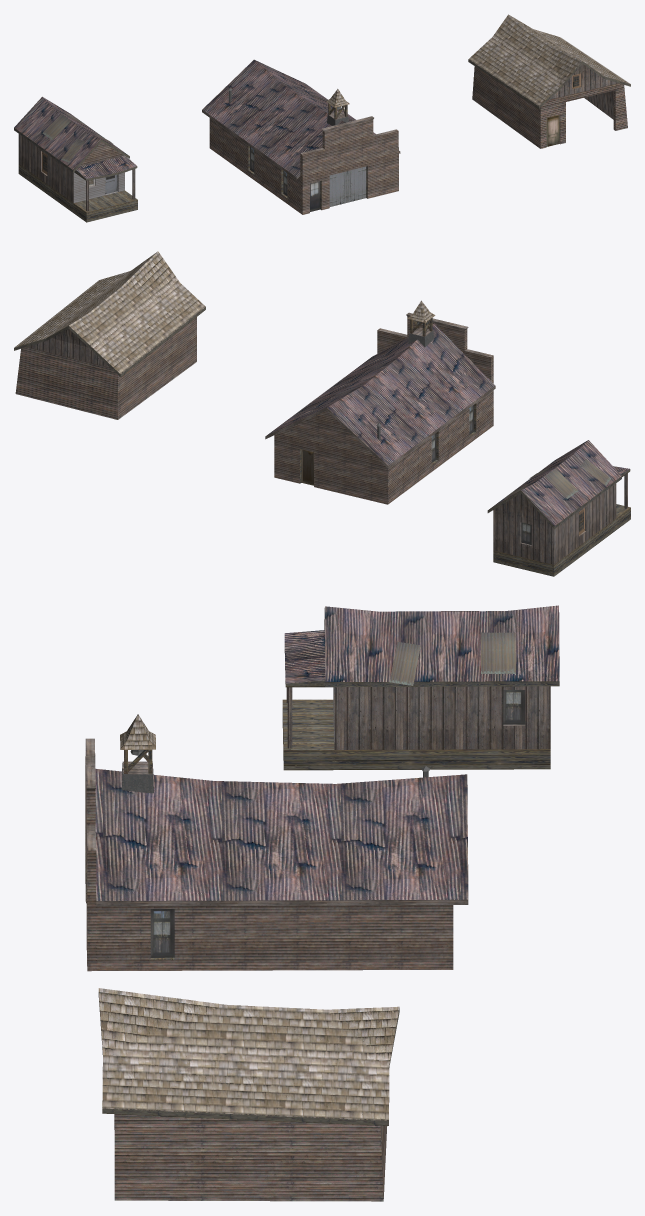
Rendered from des_westrn7_01.obj.
3 views of the same model, one above another, from view 1: azimuth 30°, elevation 25°; view 2: azimuth 150°, elevation 25°; view 3: azimuth 270°, elevation 25° (orthographic). The views are drawn at different scales.
Visible parts, largest first — view 1: des_westrn7_01; view 2: des_westrn7_01; view 3: des_westrn7_01.
Part boxes in pixels (x1,y1,x2,y2): des_westrn7_01: (14,14,630,222); des_westrn7_01: (14,251,630,576); des_westrn7_01: (85,605,559,1201).
Bounding box in the file's own units: 39.09 × 8.01 × 15.93.
Materials: 27 (27 with a texture image).
